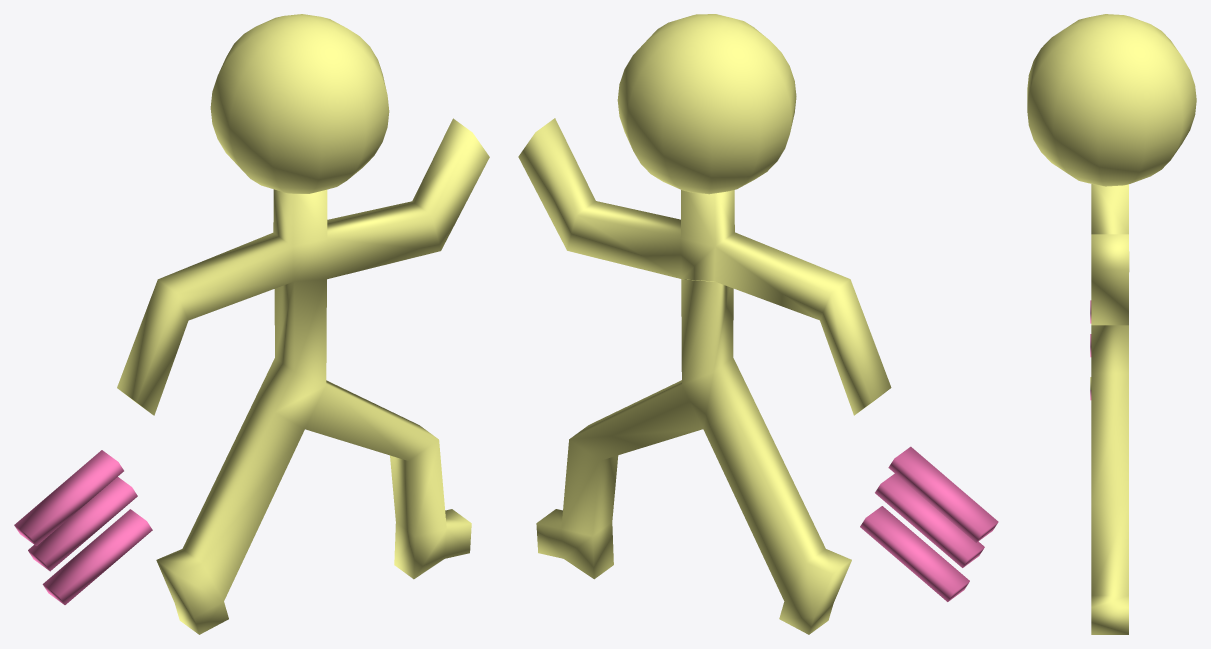
File: Jump.fbx
3 renders of one model, left to right at view 1: azimuth 30°, elevation 25°; view 2: azimuth 150°, elevation 25°; view 3: azimuth 270°, elevation 25°, orthographic. The views are drawn at different scales.
Parts seen in each view (by area): view 1: Jump; view 2: Jump; view 3: Jump.
Boxes of the visible parts, x1,y1,x2,y2 form: Jump: (14, 14, 489, 634); Jump: (518, 14, 998, 634); Jump: (1027, 14, 1196, 634).
Bounding box in the file's own units: 0.816 × 0.9806 × 0.2721.
